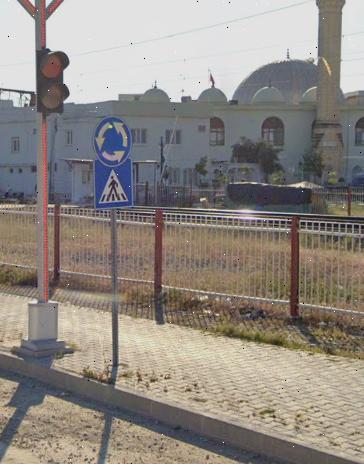crossroads: (93, 116, 134, 167)
